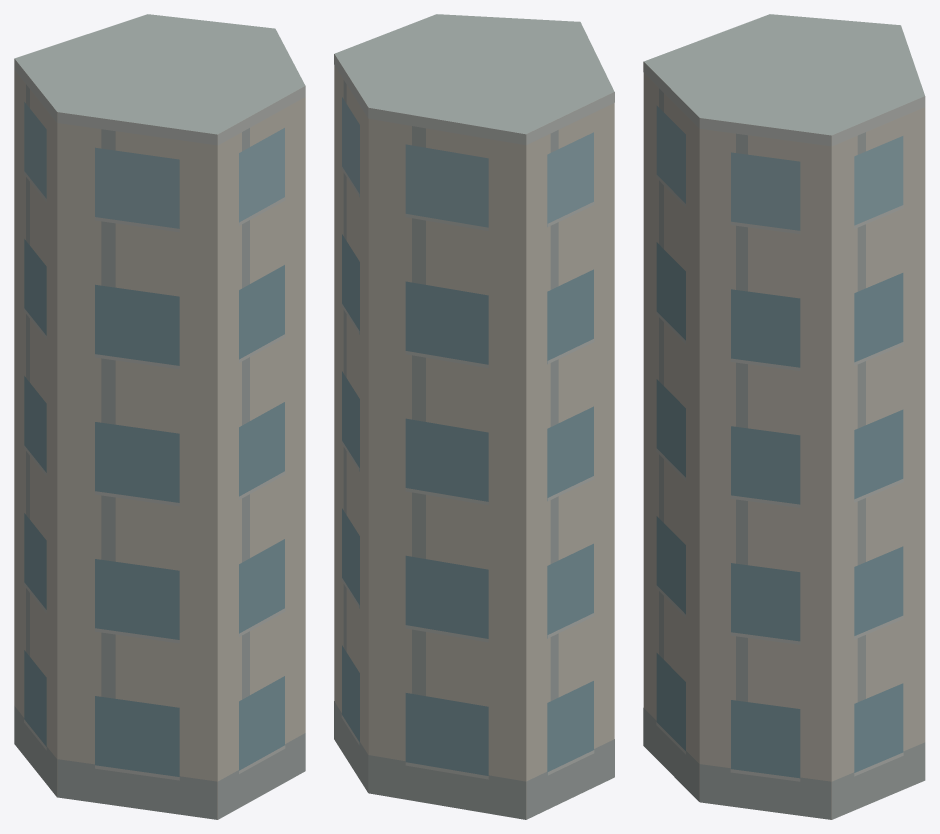
Rendered from survey-upis-33020281.glb.
The picture shows the model from 3 angles, left to right: view 1: azimuth 30°, elevation 25°; view 2: azimuth 150°, elevation 25°; view 3: azimuth 270°, elevation 25°; orthographic projection.
Parts seen in each view (by area): view 1: survey-upis-33020281.tmp; view 2: survey-upis-33020281.tmp; view 3: survey-upis-33020281.tmp.
Boxes of the visible parts, bbox=[...] form: survey-upis-33020281.tmp: bbox=[14, 14, 305, 819]; survey-upis-33020281.tmp: bbox=[334, 14, 614, 819]; survey-upis-33020281.tmp: bbox=[643, 14, 925, 819].
Size of the model in its own units: 5.82 by 15.25 by 5.7.
